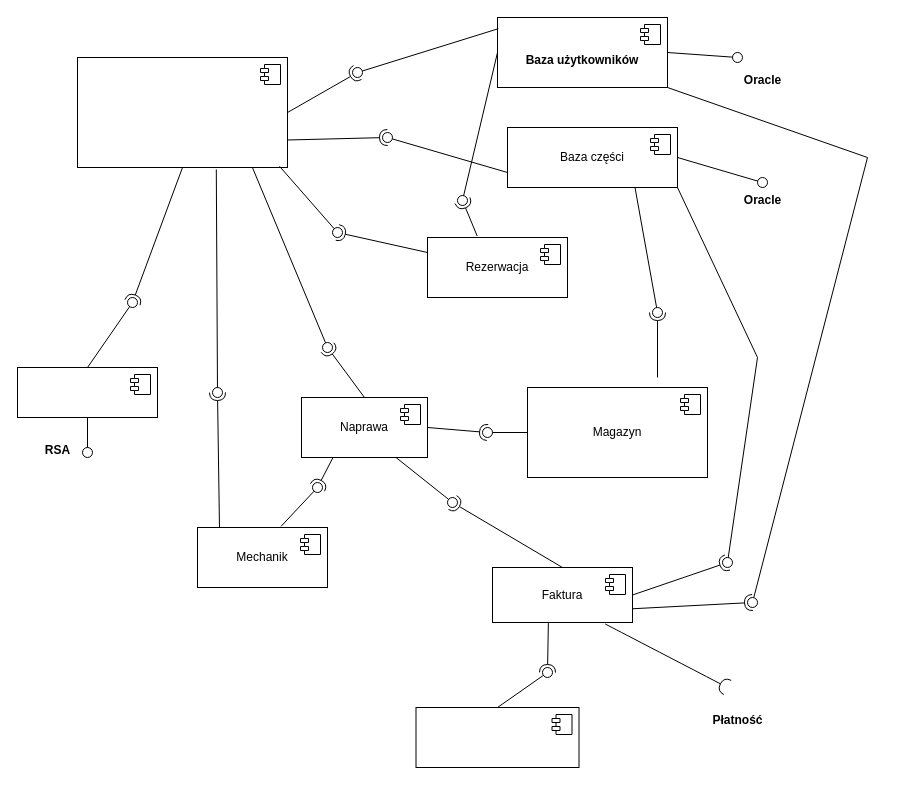
The diagram is 897 pixels wide and 785 high, and some of its shapes have lost their labels. The centre of each missing label's shape, as x and y in pixels:
"autostop.exe" belongs at (182,112).
"Klient" belongs at (497,737).
"szyfrowanie.ddl" belongs at (87,392).
